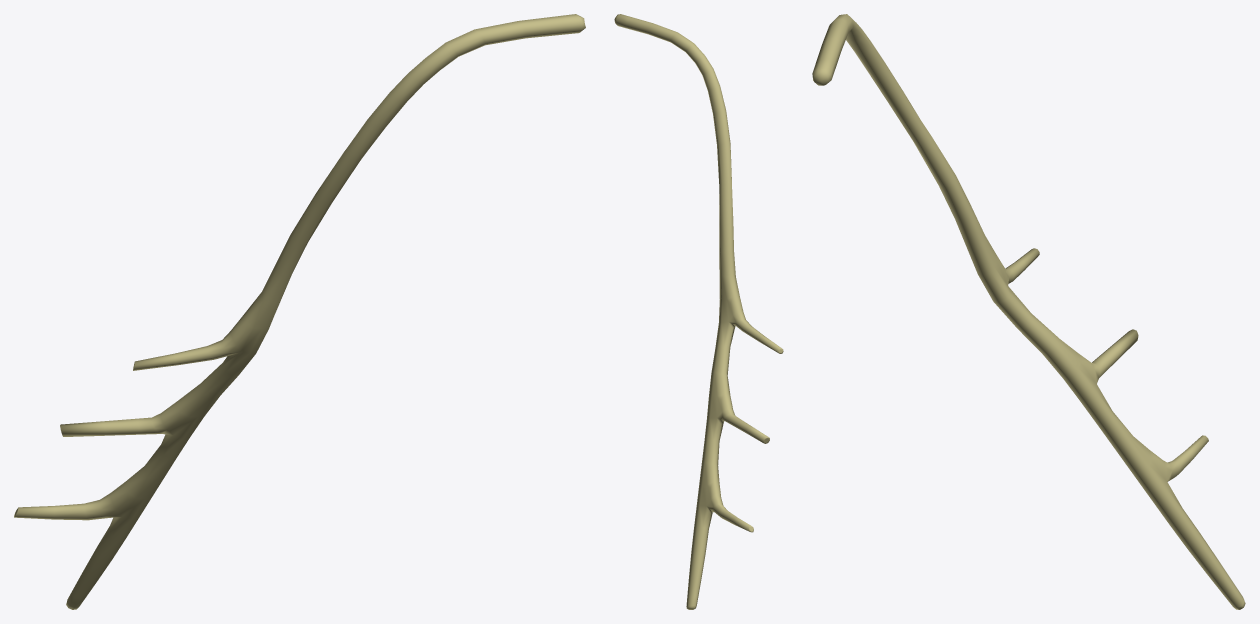
File: Nervio_Accesorio.FBX
3 views of the same model, side by side, from view 1: azimuth 30°, elevation 25°; view 2: azimuth 150°, elevation 25°; view 3: azimuth 270°, elevation 25° (orthographic). The views are drawn at different scales.
Parts seen in each view (by area): view 1: Nerves_L8; view 2: Nerves_L8; view 3: Nerves_L8.
Part boxes in pixels (<box>): Nerves_L8: <box>14,14,585,609</box>; Nerves_L8: <box>614,14,783,609</box>; Nerves_L8: <box>812,14,1245,609</box>.
Bounding box in the file's own units: 0.3393 × 0.5585 × 0.3136.
